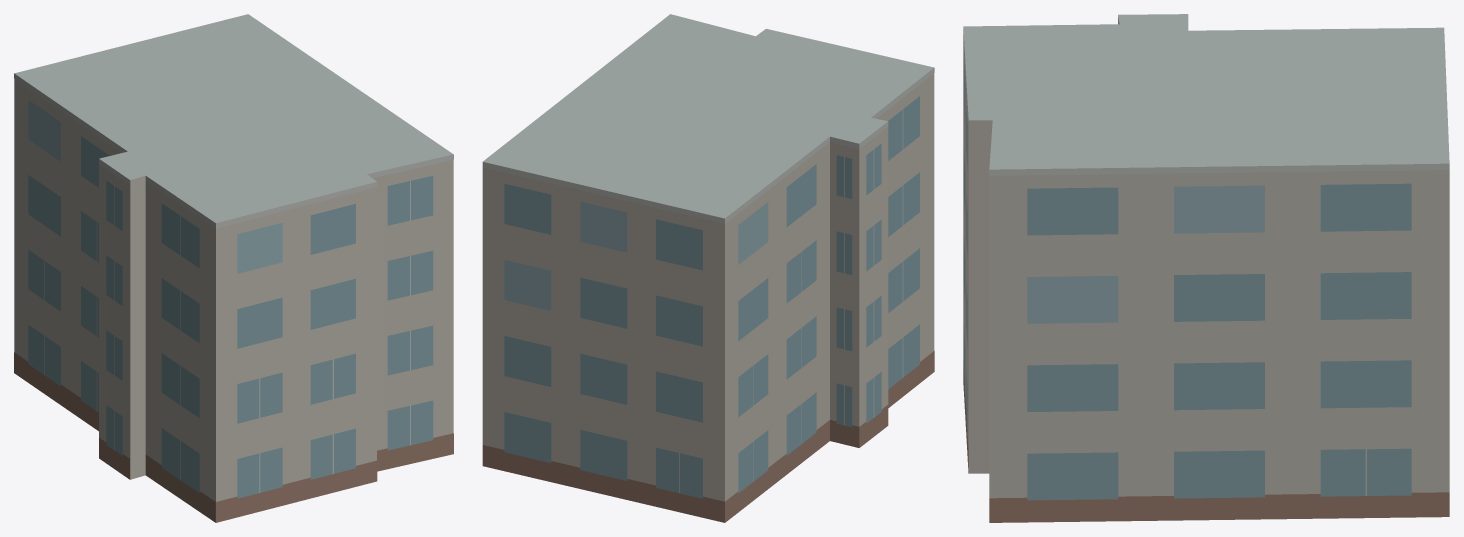
File: survey-upis-32813380.glb
3 renders of one model, left to right at view 1: azimuth 30°, elevation 25°; view 2: azimuth 150°, elevation 25°; view 3: azimuth 270°, elevation 25°, orthographic. The views are drawn at different scales.
Visible parts, largest first — view 1: survey-upis-32813380.tmp; view 2: survey-upis-32813380.tmp; view 3: survey-upis-32813380.tmp.
Boxes of the visible parts, left/top/right/bottom form: survey-upis-32813380.tmp: left=14, top=14, right=453, bottom=522; survey-upis-32813380.tmp: left=482, top=14, right=934, bottom=522; survey-upis-32813380.tmp: left=963, top=14, right=1449, bottom=522.
Bounding box in the file's own units: 12.95 × 13.7 × 17.1.
